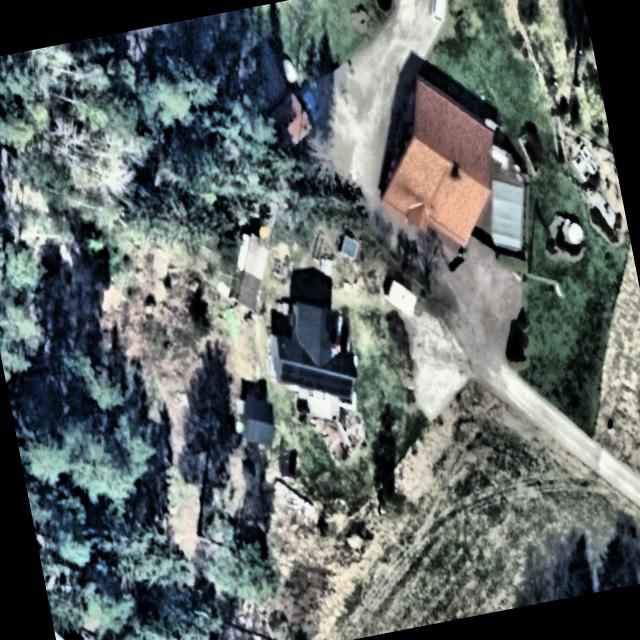roof_pv: (278, 347, 356, 412)
